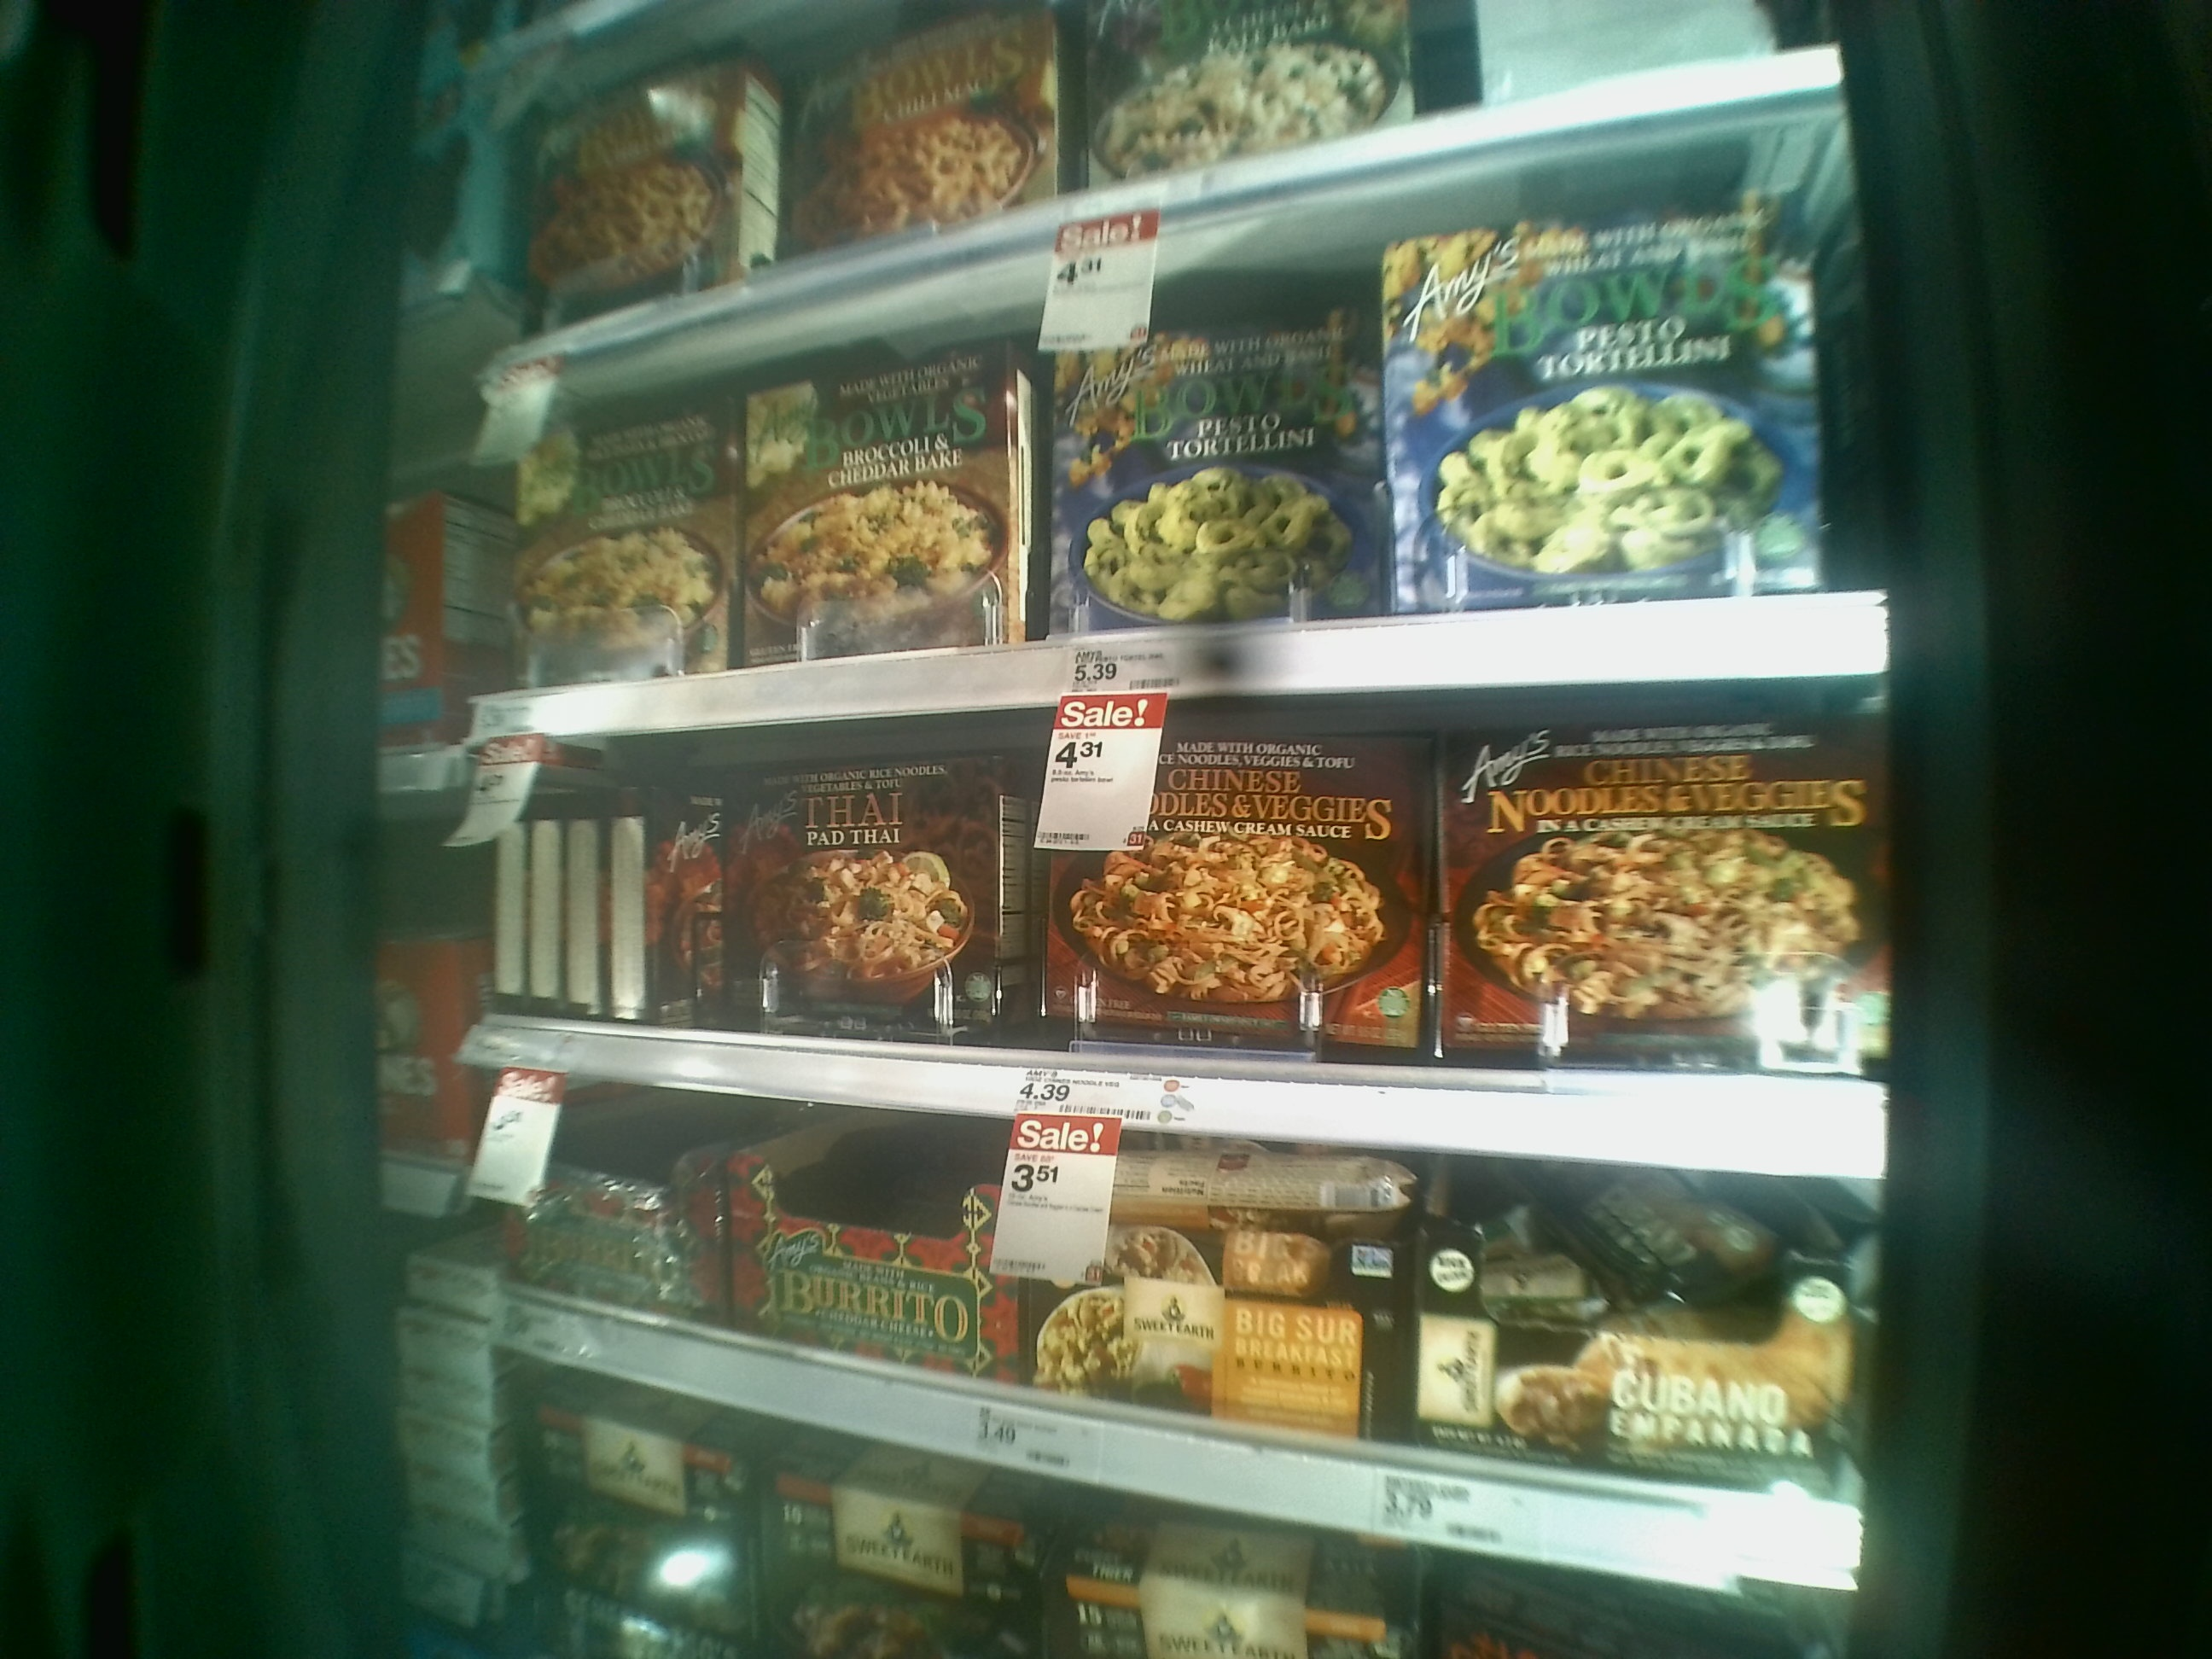shelf: (486, 98, 1893, 742), (469, 1066, 1867, 1588), (484, 680, 1885, 1176)
